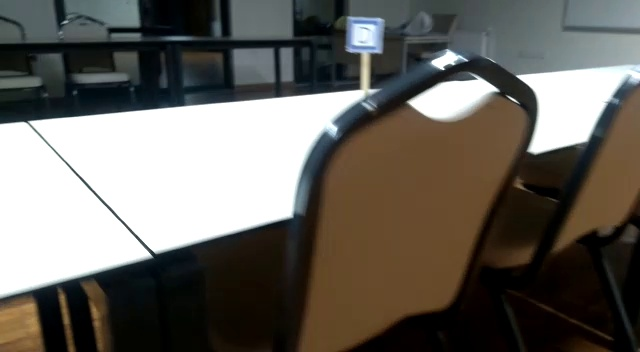durak: (349, 16, 385, 51)
